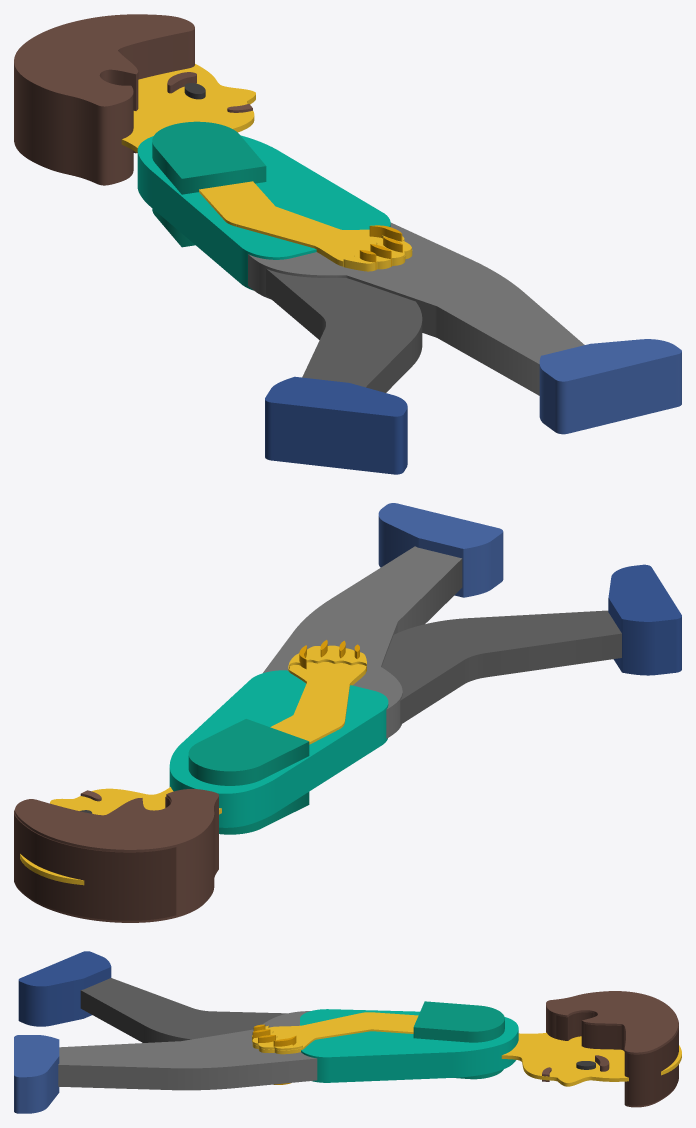
File: emoji_u1f6b6_200d_2642_200d_27a1.glb
3 views of the same model, one above another, from view 1: azimuth 30°, elevation 25°; view 2: azimuth 150°, elevation 25°; view 3: azimuth 270°, elevation 25° (orthographic). The views are drawn at different scales.
Visible parts, largest first — view 1: emoji_u1f6b6_200d_2642_200d_27a1; view 2: emoji_u1f6b6_200d_2642_200d_27a1; view 3: emoji_u1f6b6_200d_2642_200d_27a1.
Boxes of the visible parts, x1,y1,x2,y2 form: emoji_u1f6b6_200d_2642_200d_27a1: (14,14,681,474); emoji_u1f6b6_200d_2642_200d_27a1: (14,503,681,922); emoji_u1f6b6_200d_2642_200d_27a1: (14,951,681,1113).
Bounding box in the file's own units: 0.0145 × 0.003 × 0.0331.
